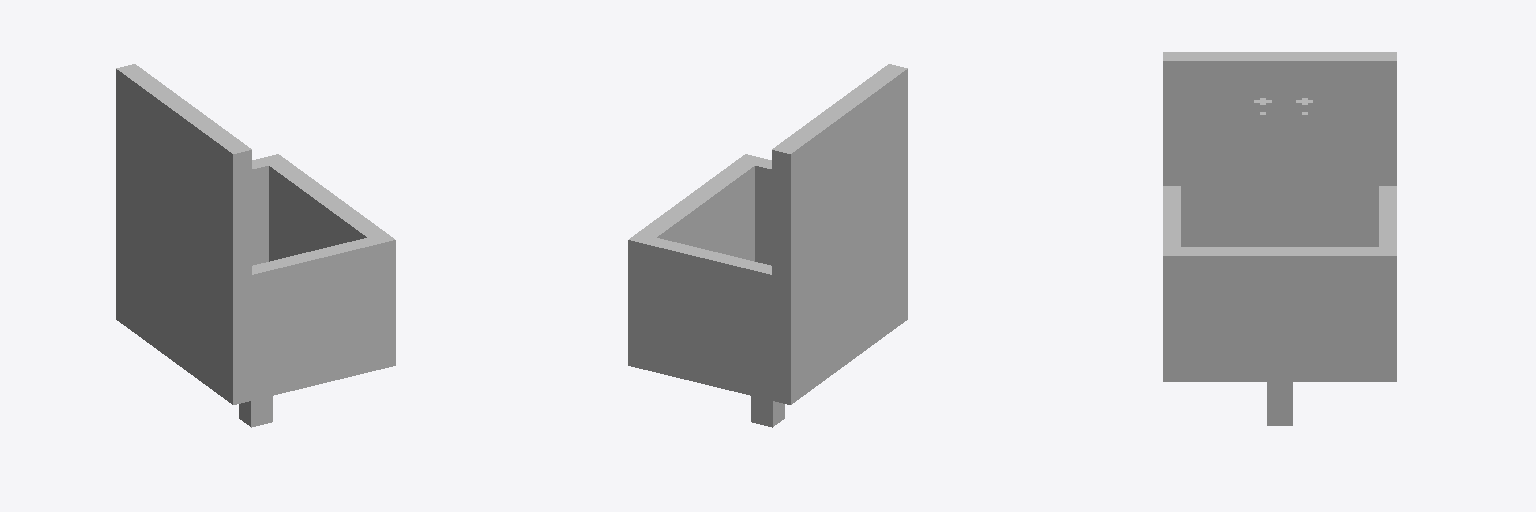
Rendered from WashFace.obj.
3 views of the same model, side by side, from view 1: azimuth 30°, elevation 25°; view 2: azimuth 150°, elevation 25°; view 3: azimuth 270°, elevation 25° (orthographic).
Visible parts, largest first — view 1: Box014; view 2: Box014; view 3: Box014.
Boxes of the visible parts, box(x1,y1,x2,y2) form: Box014: box(116, 64, 395, 427); Box014: box(628, 64, 907, 427); Box014: box(1163, 52, 1396, 425).
Bounding box in the file's own units: 82.56 × 160 × 103.